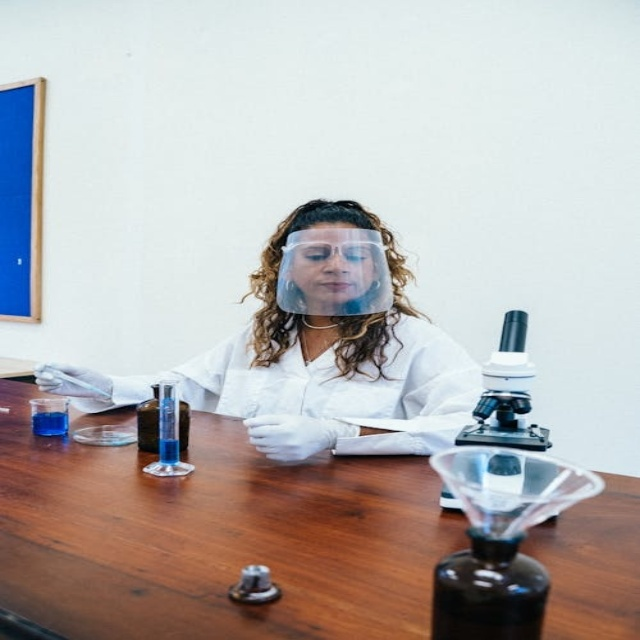Gafas: (285, 241, 380, 261)
Guantes: (238, 410, 356, 463), (31, 358, 115, 404)
Sin_mascara: (312, 278, 356, 304)
